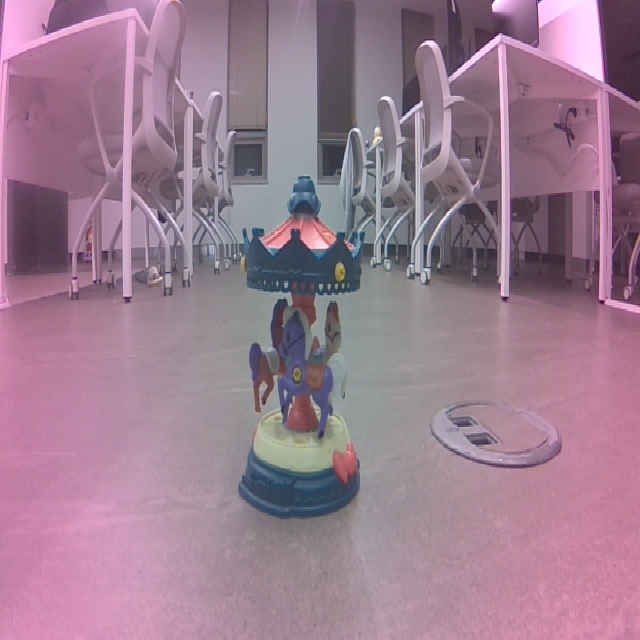장애물: (238, 170, 367, 521)
